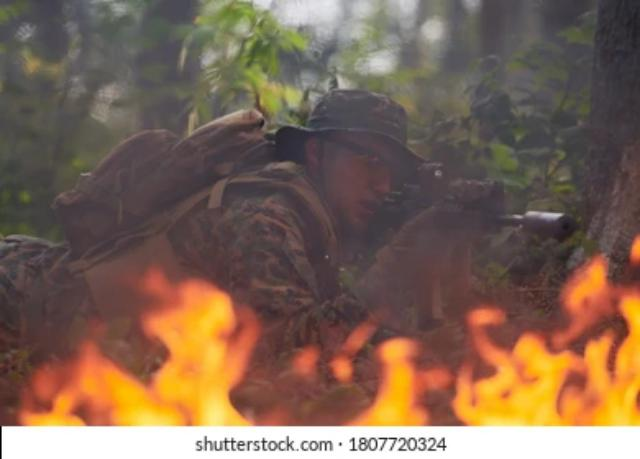other: (24, 96, 438, 337)
